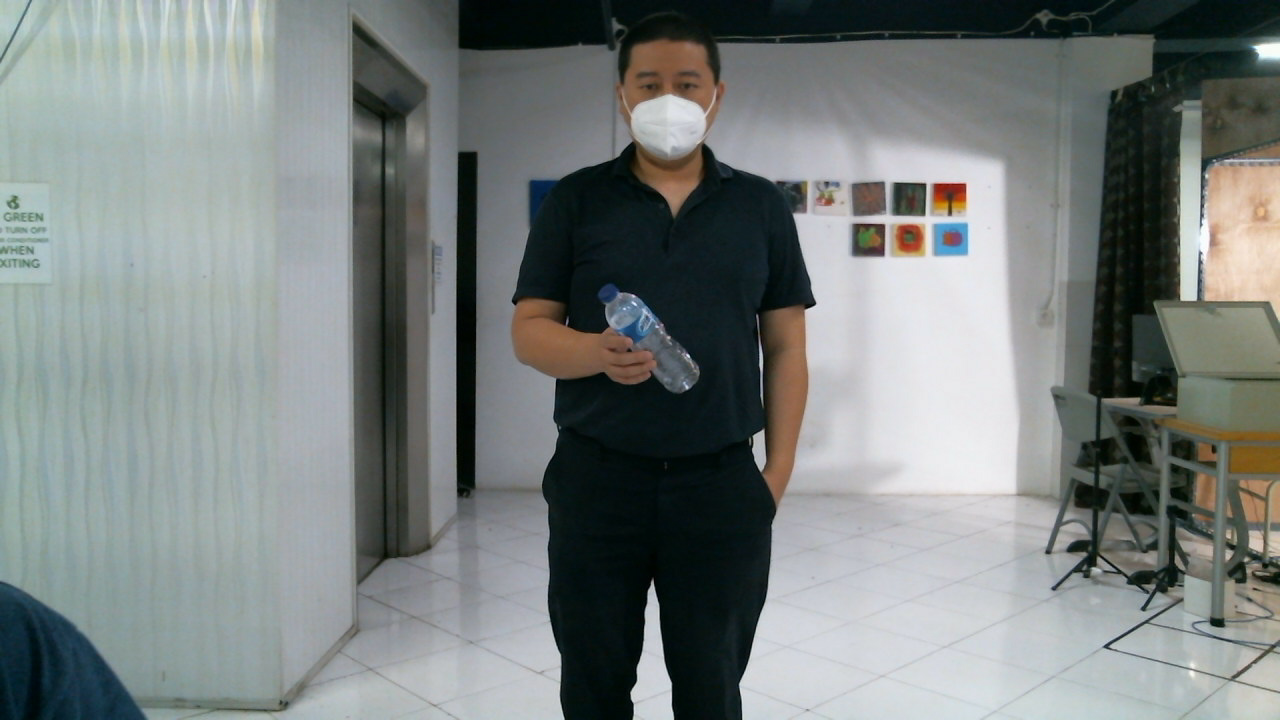Bottle: (599, 286, 700, 393)
